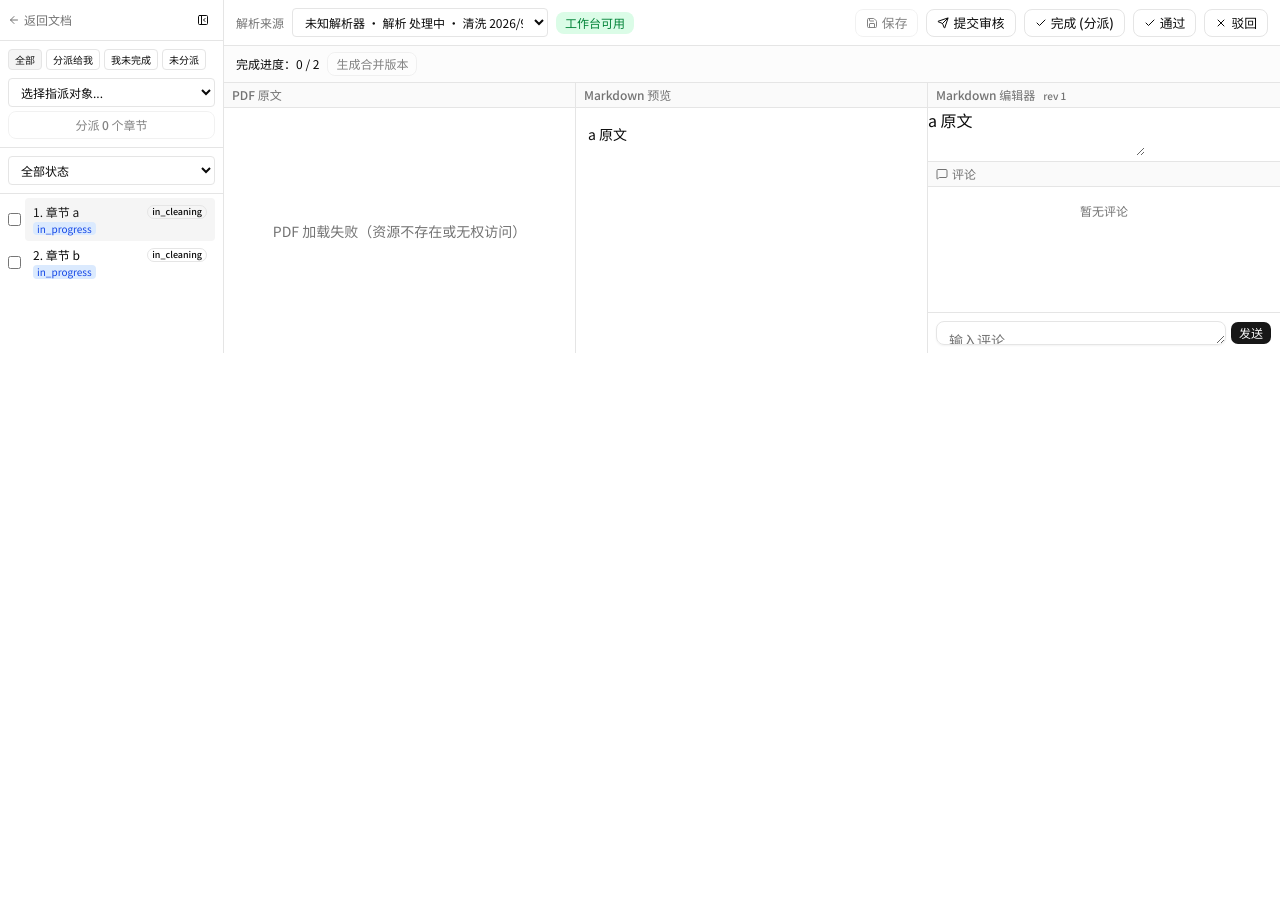
Test: 清洗页面保存与继续 › 保存成功才加载下一章节，详情和 acquire 每次只发一次
Replace the text in the text box named "章节正文" with "我的最新草稿" at (1036, 132), box [928,108,1145,156]
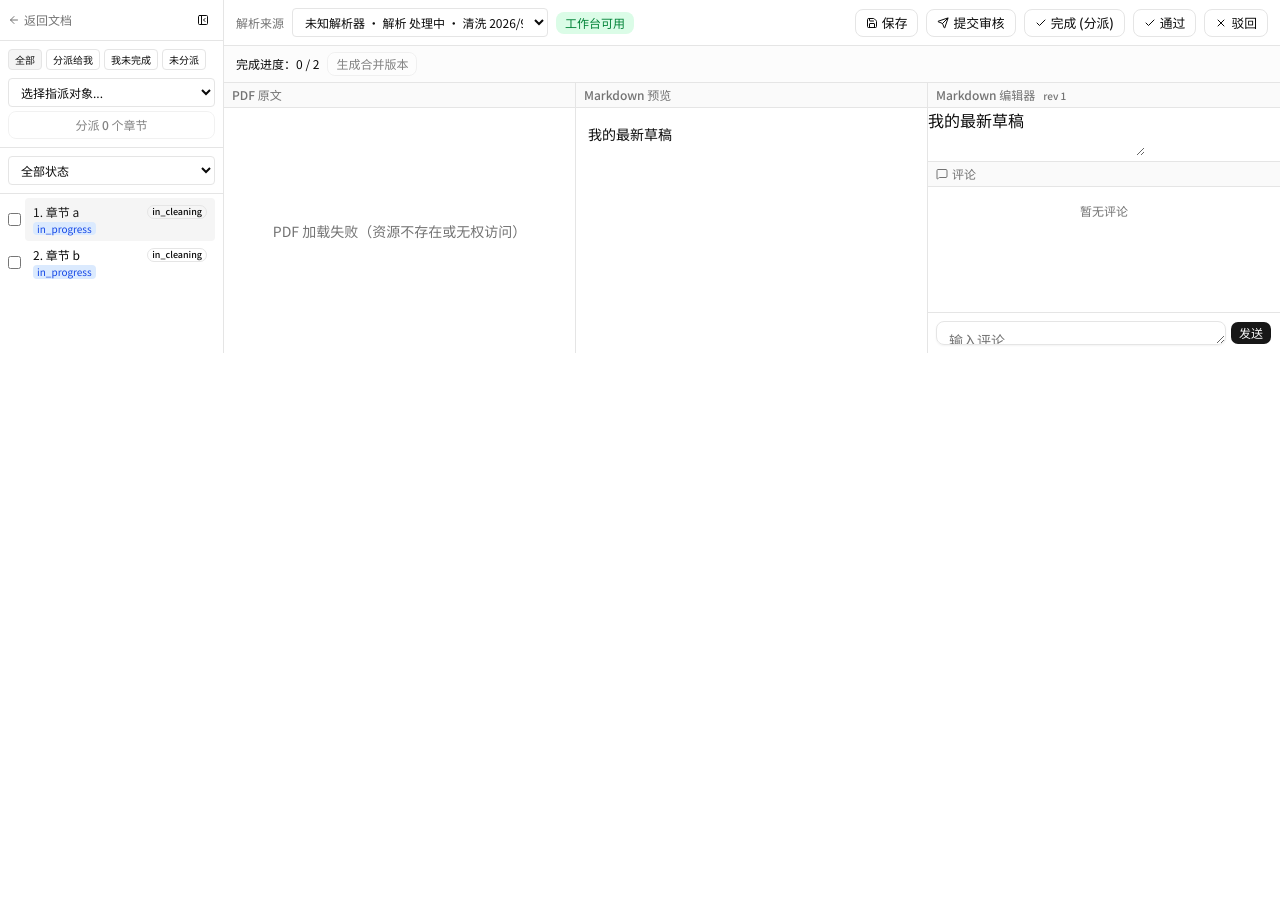
Click the button "2. 章节 b in_cleaning in_progress" at (120, 263), box [25,241,215,285]
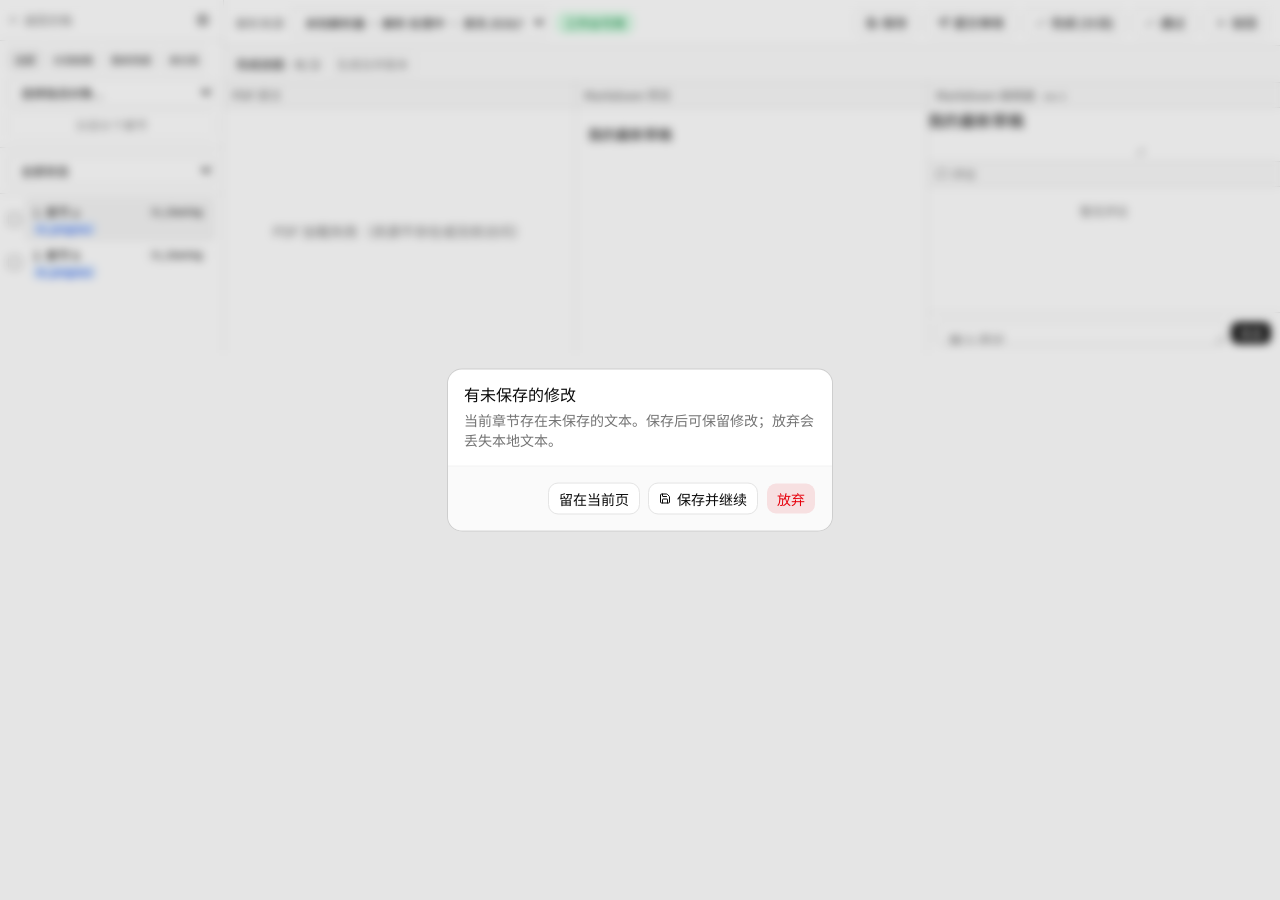
Now the heading "有未保存的修改" is shown, box [464,382,576,406]
Click the button "保存并继续" at (703, 498), box [648,482,758,514]
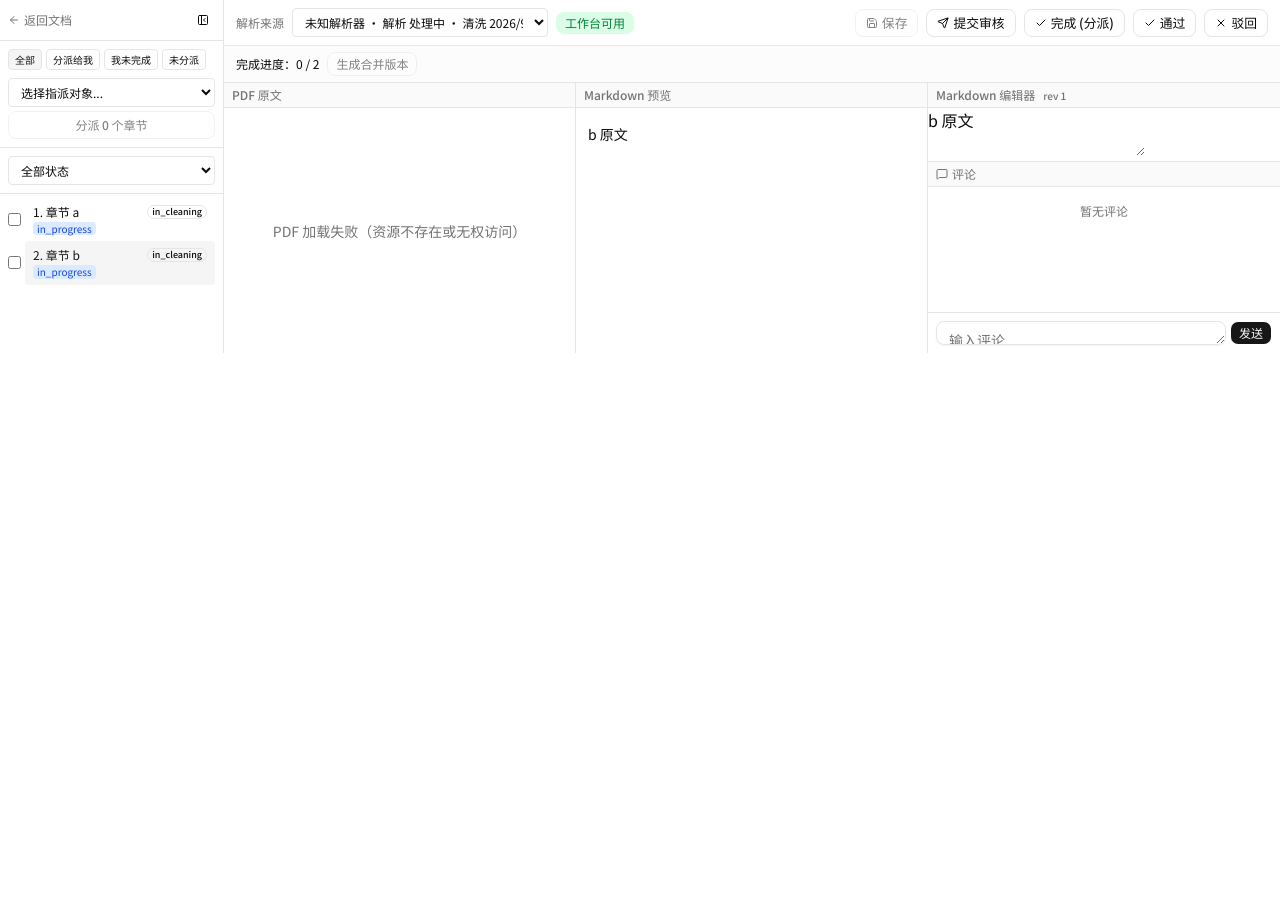
Now the text box named "章节正文" holds "b 原文", box [928,108,1145,156]
